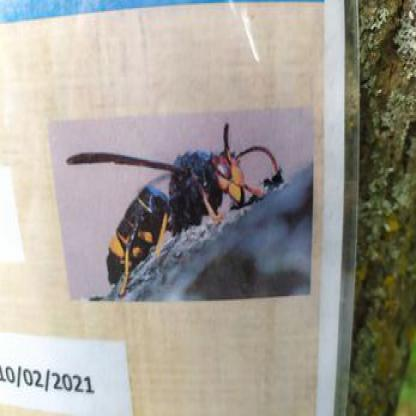Asian Hornet: (66, 119, 276, 300)
